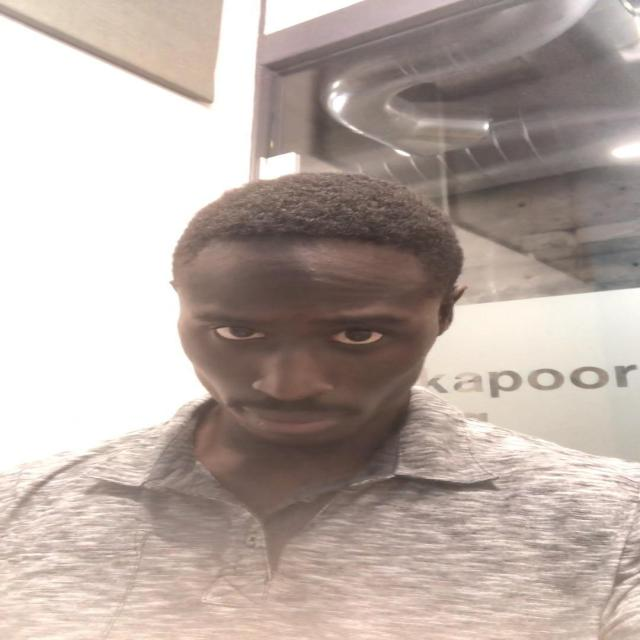face: (188, 253, 458, 446)
